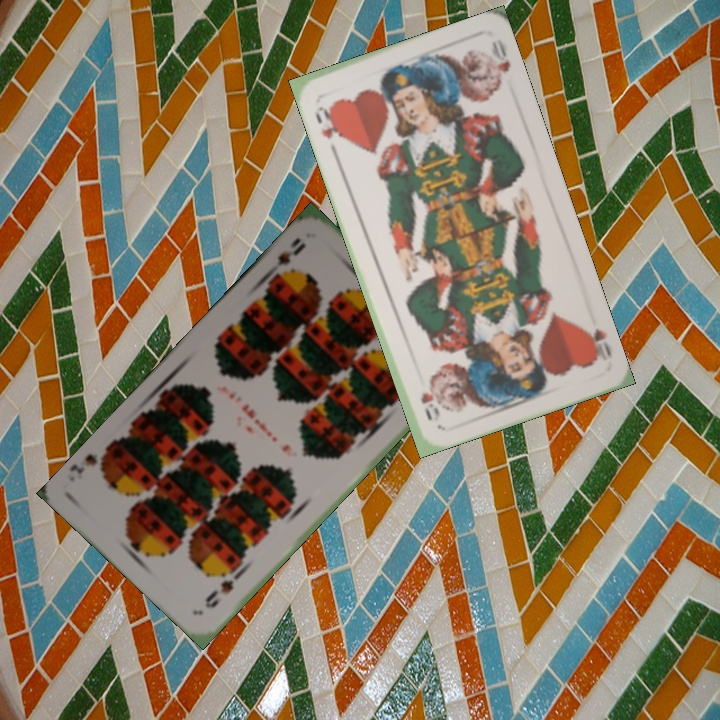HO: (578, 320, 615, 364), (310, 102, 344, 142)
S9: (263, 233, 309, 281), (200, 565, 244, 611)
